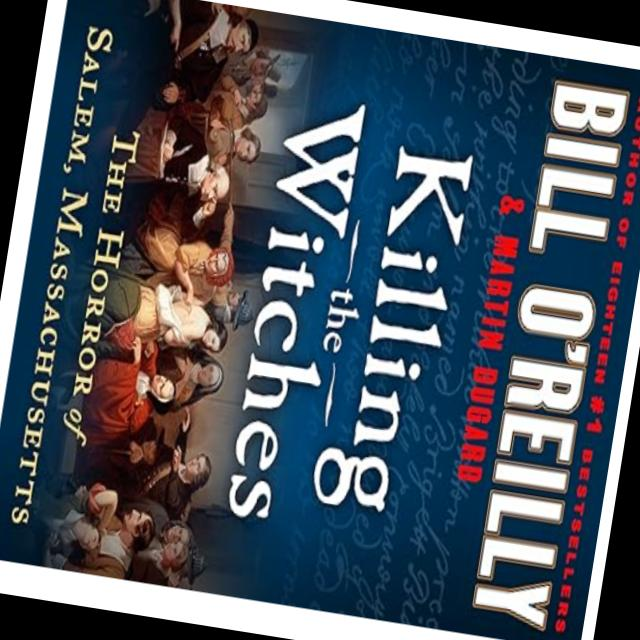titles-or-authors: (208, 89, 486, 560), (427, 68, 636, 634)
